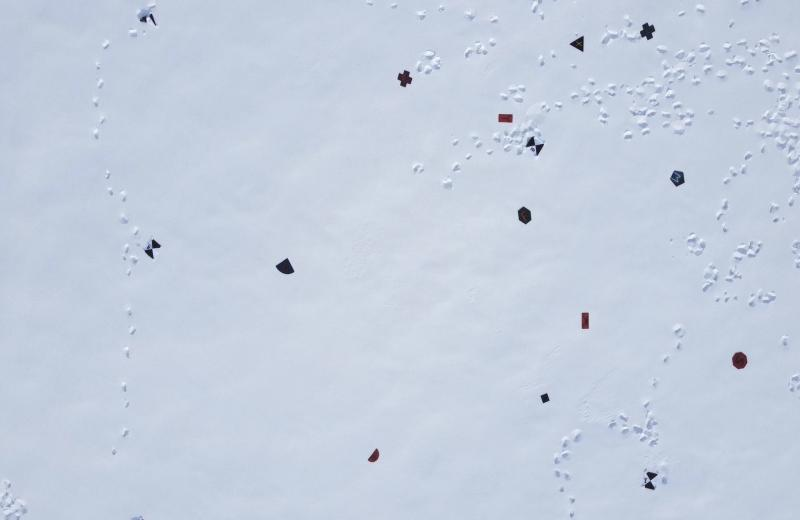Cross: (640, 21, 655, 40), (397, 70, 412, 88)
Hexagon: (517, 206, 532, 225)
Octagon: (732, 351, 748, 370)
Pentagon: (670, 168, 686, 188)
Quarter Circle: (275, 257, 295, 278)
Rectangle: (497, 111, 514, 124), (580, 312, 590, 330)
Semi Circle: (367, 448, 380, 463)
Square: (540, 392, 550, 404)
Triangle: (570, 34, 586, 53)
